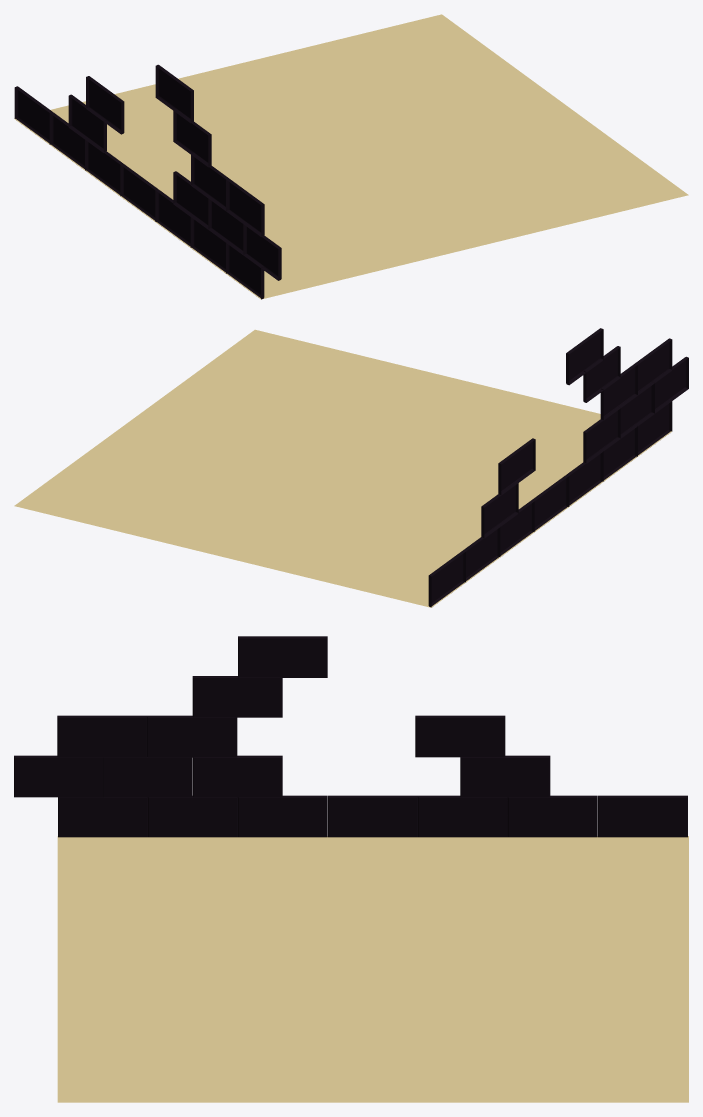
The model's file is side_right_brick.FBX.
The picture shows the model from 3 angles, top to bottom: view 1: azimuth 30°, elevation 25°; view 2: azimuth 150°, elevation 25°; view 3: azimuth 270°, elevation 25°; orthographic projection. The views are drawn at different scales.
Visible parts, largest first — view 1: Box001, Brick026, Brick030, Brick023, Brick001, Brick005, Brick019, Brick027, Brick024, Brick016, Brick003, Brick007 (+5 smaller); view 2: Box001, Brick030, Brick007, Brick026, Brick006, Brick023, Brick024, Brick017, Brick027, Brick020, Brick001, Brick003 (+5 smaller); view 3: Box001, Brick030, Brick019, Brick003, Brick007, Brick005, Brick020, Brick027, Brick004, Brick017, Brick026, Brick024 (+5 smaller).
Part boxes in pixels (<box>): Box001: <box>14,14,688,299</box>; Brick026: <box>155,64,193,123</box>; Brick030: <box>86,76,124,134</box>; Brick023: <box>173,109,211,167</box>; Brick001: <box>226,241,264,299</box>; Brick005: <box>50,112,87,170</box>; Brick019: <box>226,178,264,236</box>; Brick027: <box>68,94,106,152</box>; Brick024: <box>243,222,281,280</box>; Brick016: <box>208,197,246,255</box>; Brick003: <box>120,163,157,221</box>; Brick007: <box>14,86,52,144</box>; Box001: <box>14,329,671,607</box>; Brick030: <box>498,438,535,495</box>; Brick007: <box>428,550,465,607</box>; Brick026: <box>566,328,603,385</box>; Brick006: <box>497,500,534,556</box>; Brick023: <box>583,346,620,402</box>; Brick024: <box>651,356,688,413</box>; Brick017: <box>583,407,620,463</box>; Brick027: <box>481,481,518,538</box>; Brick020: <box>600,363,637,420</box>; Brick001: <box>635,399,672,456</box>; Brick003: <box>532,475,568,530</box>; Box001: <box>57,836,688,1102</box>; Brick030: <box>415,715,505,757</box>; Brick019: <box>57,715,147,757</box>; Brick003: <box>328,795,417,837</box>; Brick007: <box>598,795,687,837</box>; Brick005: <box>507,795,597,837</box>; Brick020: <box>147,715,237,757</box>; Brick027: <box>460,755,550,797</box>; Brick004: <box>238,795,327,837</box>; Brick017: <box>193,755,282,797</box>; Brick026: <box>238,636,327,677</box>; Brick024: <box>14,755,103,797</box>.
Bounding box in the file's own units: 60 × 64.16 × 21.05.
